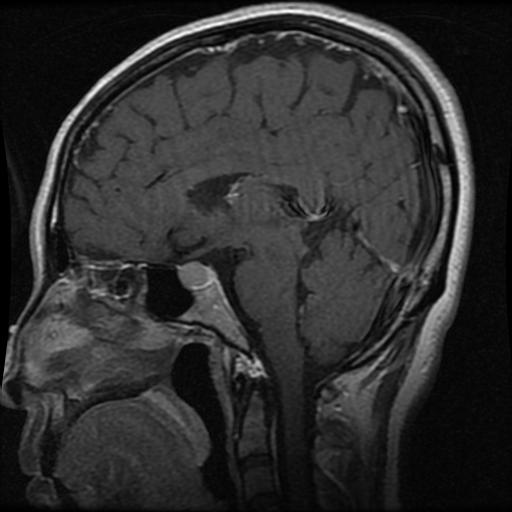Pituirity_tumour: (177, 260, 212, 287)
